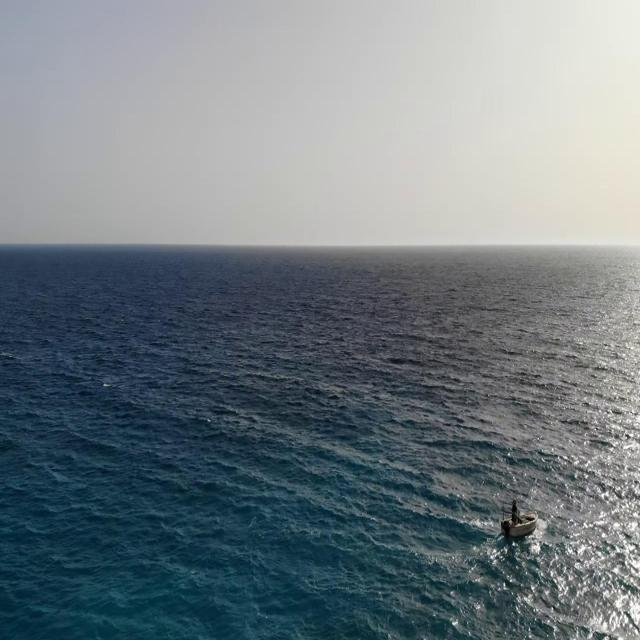boat: (498, 497, 538, 535)
